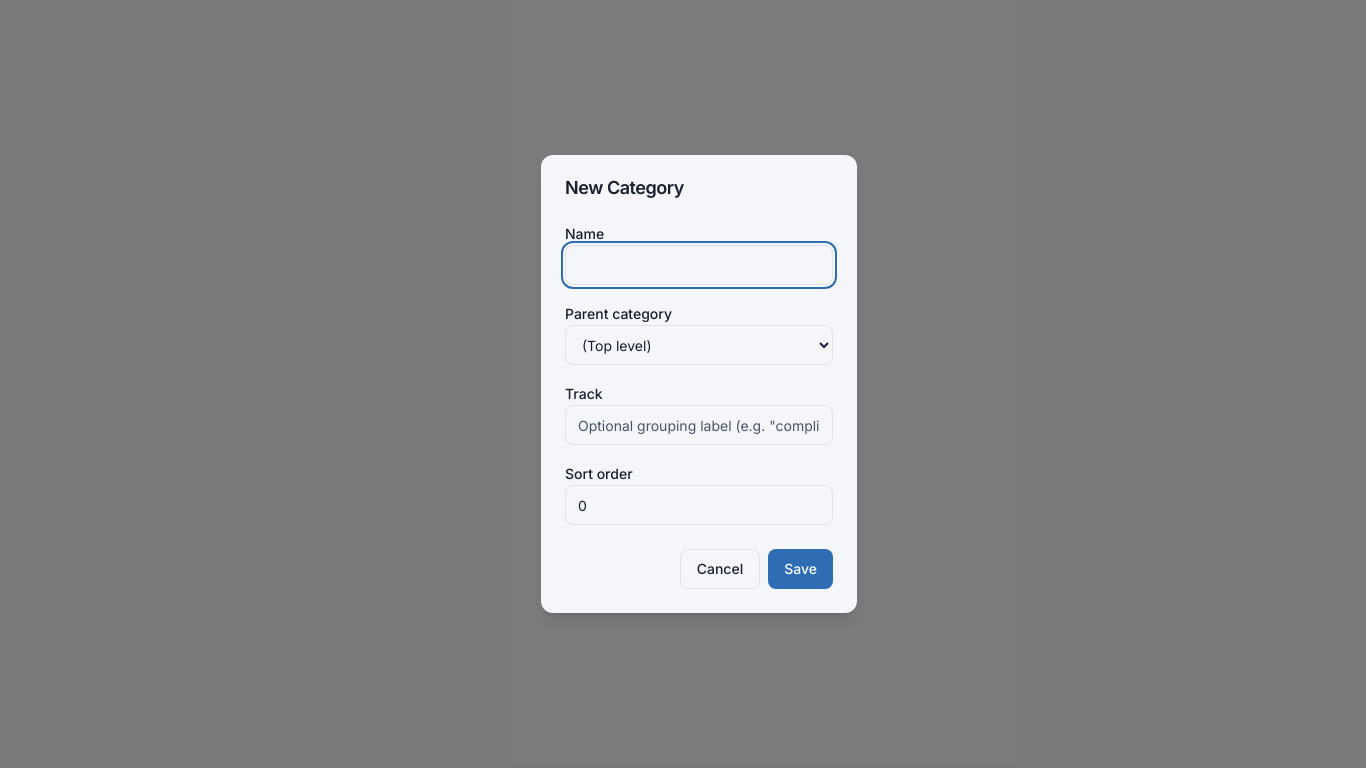
Test: CategoryEditModal - create mode › shows the cycle error under Parent when the API reports CATEGORY_CYCLE
Type "Loop" into the field labelled "Name" at coordinates (699, 265), box [565, 245, 833, 285]
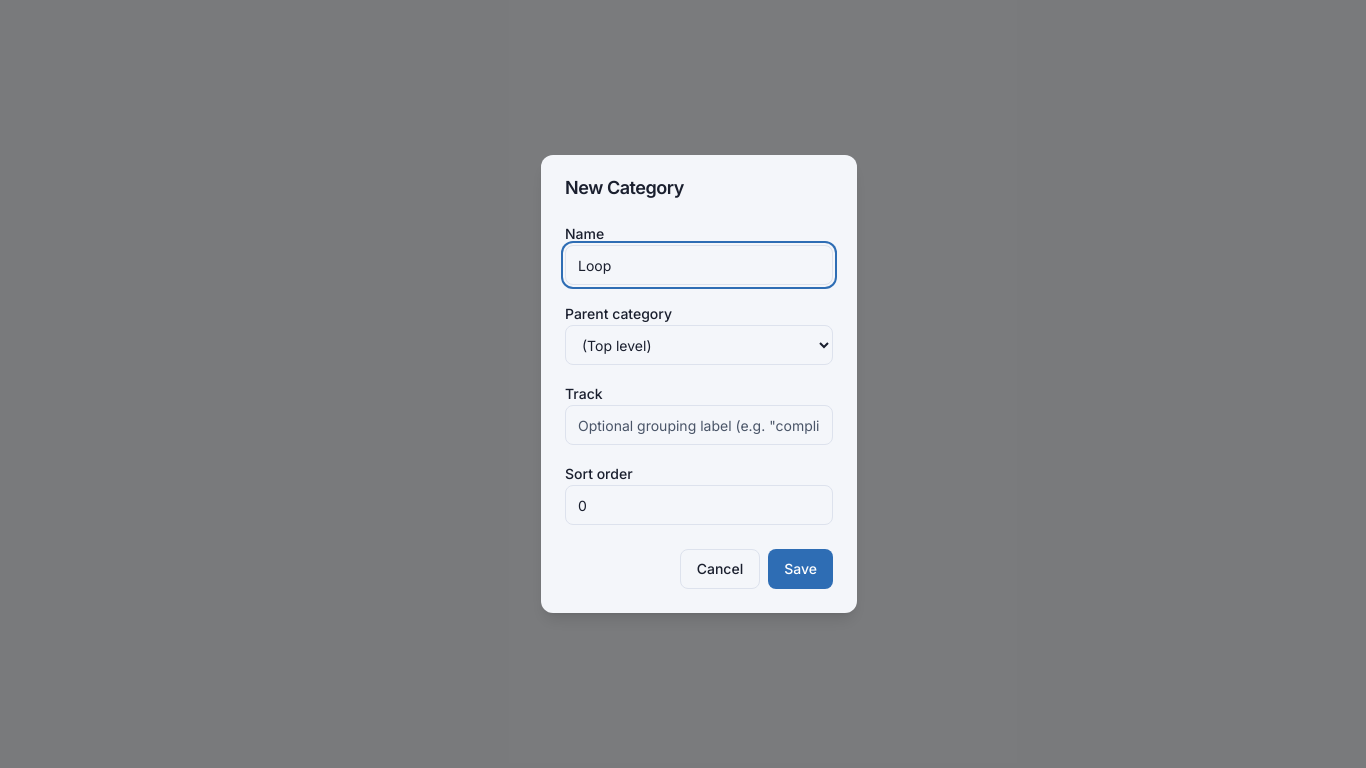
Click the button "Save" at coordinates (801, 569), box [768, 549, 833, 589]
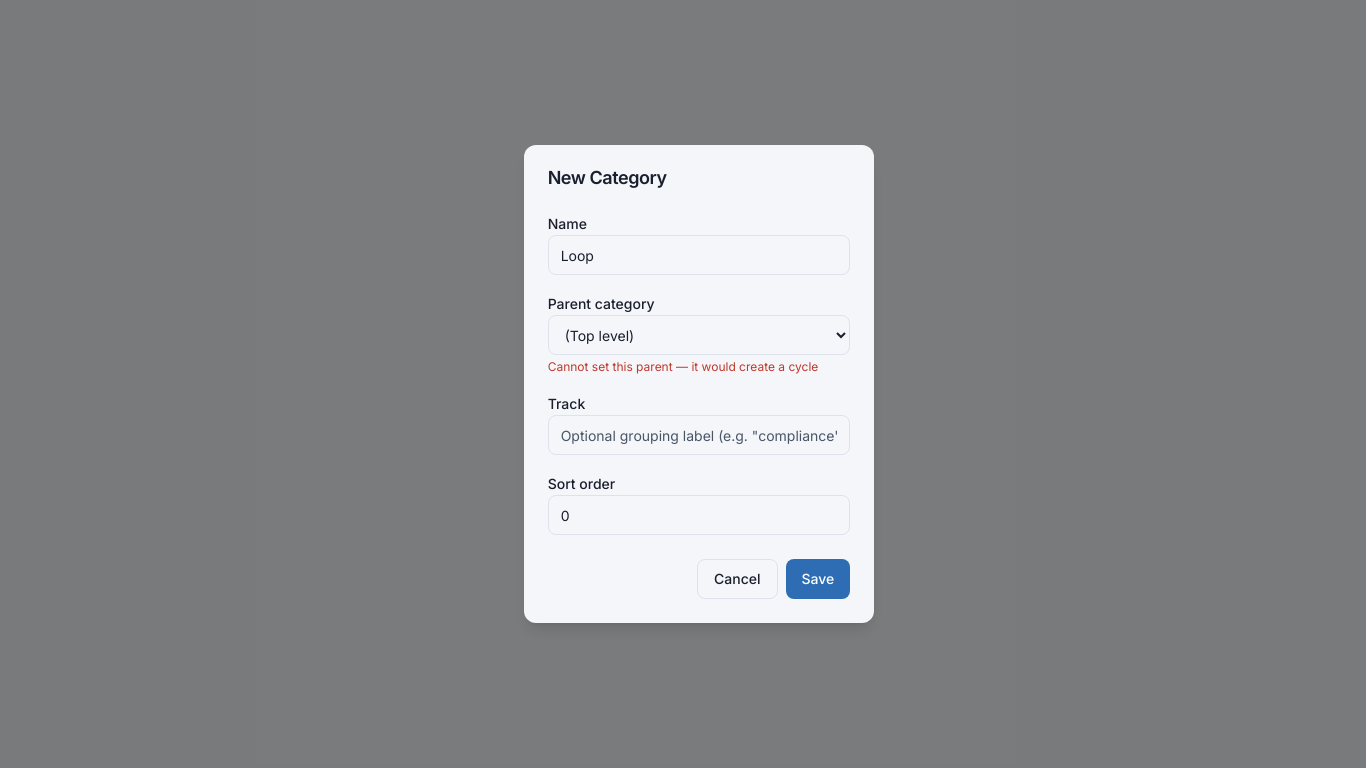
Now the text "Cannot set this parent — it would create a cycle" is shown, box [548, 359, 850, 375]
